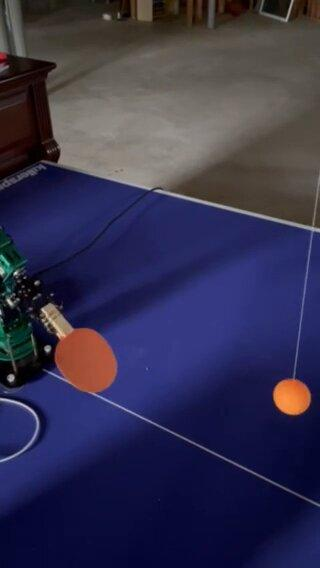oball: (274, 379, 308, 415)
